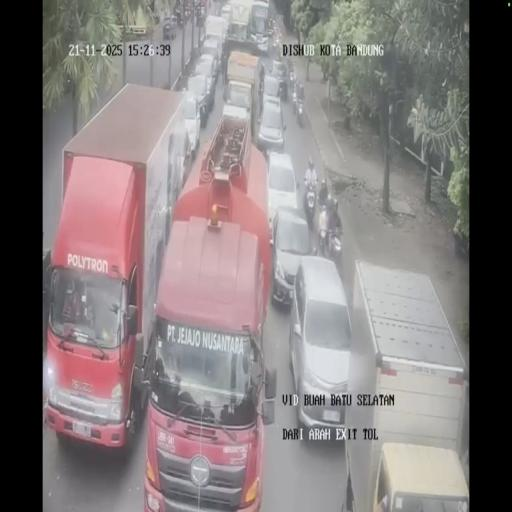car: (289, 258, 351, 436), (270, 206, 311, 306), (168, 117, 192, 197), (256, 96, 285, 154), (185, 72, 212, 131), (223, 82, 253, 126), (200, 38, 221, 78), (271, 58, 288, 96), (220, 3, 232, 30), (171, 14, 177, 33)
motorcycle: (326, 222, 343, 268), (303, 185, 317, 228), (291, 83, 299, 115), (176, 10, 184, 28)
truck: (44, 82, 191, 454), (338, 262, 468, 509), (247, 0, 271, 54)
